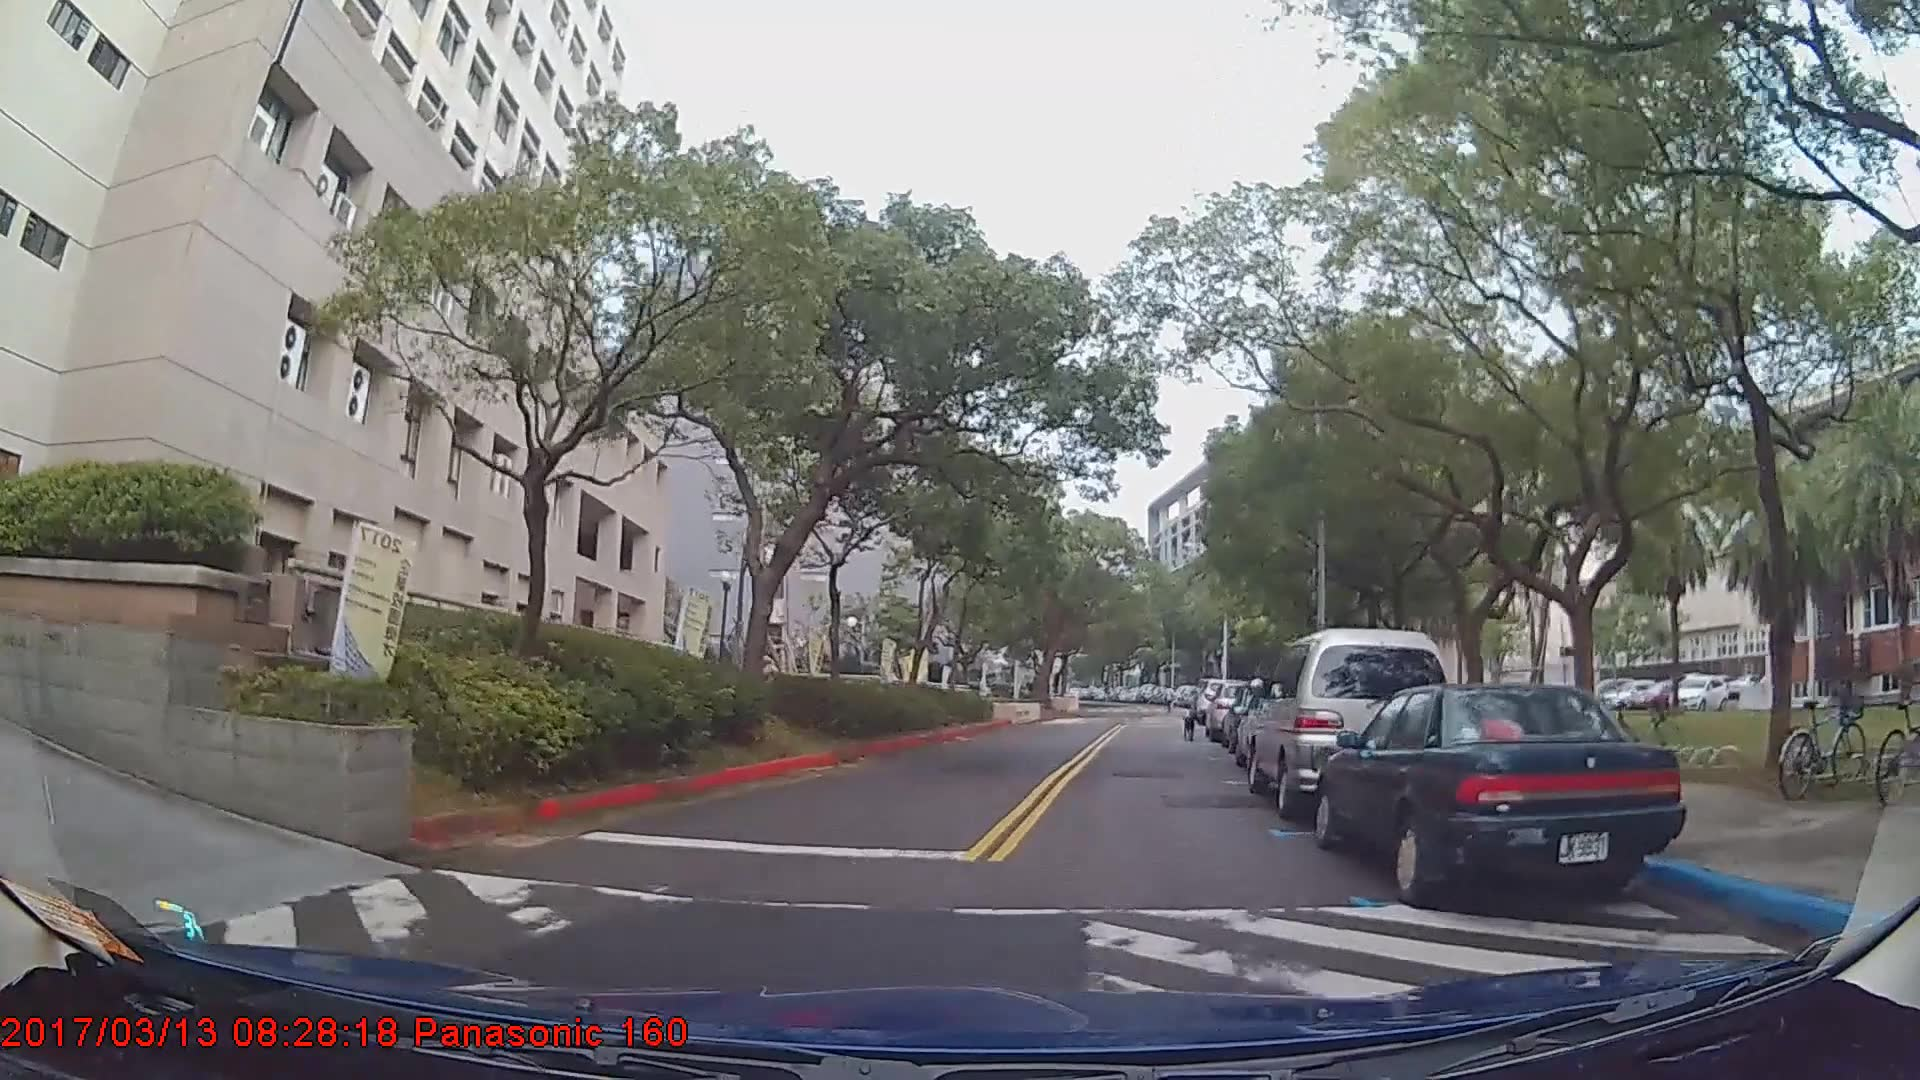vehicle: (1316, 684, 1689, 907), (1247, 626, 1452, 824)
